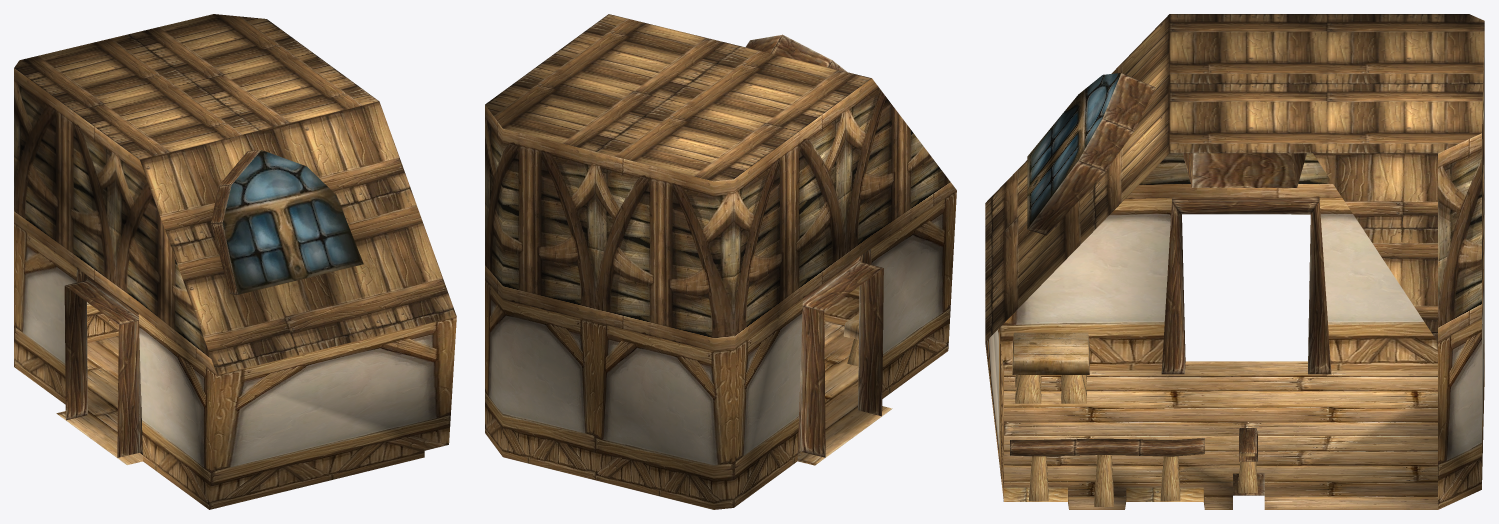
The model's file is stormwind_209.fbx.
3 renders of one model, left to right at view 1: azimuth 30°, elevation 25°; view 2: azimuth 150°, elevation 25°; view 3: azimuth 270°, elevation 25°, orthographic. The views are drawn at different scales.
Parts seen in each view (by area): view 1: stormwind_209_55, stormwind_209_48, stormwind_209_49, stormwind_209_84, stormwind_209_53, stormwind_209_51; view 2: stormwind_209_49, stormwind_209_48, stormwind_209_55, stormwind_209_53, stormwind_209_51, stormwind_209_54; view 3: stormwind_209_55, stormwind_209_51, stormwind_209_48, stormwind_209_53, stormwind_209_49, stormwind_209_54, stormwind_209_84.
Boxes of the visible parts, left/top/right/bottom form: stormwind_209_55: left=14, top=14, right=456, bottom=374; stormwind_209_48: left=14, top=223, right=456, bottom=509; stormwind_209_49: left=14, top=68, right=216, bottom=374; stormwind_209_84: left=222, top=150, right=363, bottom=294; stormwind_209_53: left=64, top=150, right=260, bottom=457; stormwind_209_51: left=56, top=336, right=142, bottom=464; stormwind_209_49: left=485, top=78, right=956, bottom=351; stormwind_209_48: left=485, top=190, right=956, bottom=509; stormwind_209_55: left=485, top=14, right=871, bottom=181; stormwind_209_53: left=746, top=34, right=883, bottom=457; stormwind_209_51: left=797, top=320, right=892, bottom=465; stormwind_209_54: left=843, top=313, right=859, bottom=366; stormwind_209_55: left=985, top=14, right=1484, bottom=341; stormwind_209_51: left=1004, top=361, right=1437, bottom=509; stormwind_209_48: left=985, top=197, right=1484, bottom=509; stormwind_209_53: left=1004, top=73, right=1331, bottom=508; stormwind_209_49: left=1125, top=30, right=1484, bottom=342; stormwind_209_54: left=1012, top=332, right=1257, bottom=506; stormwind_209_84: left=1027, top=73, right=1121, bottom=229.
Bounding box in the file's own units: 7.58 × 8.49 × 10.76.
